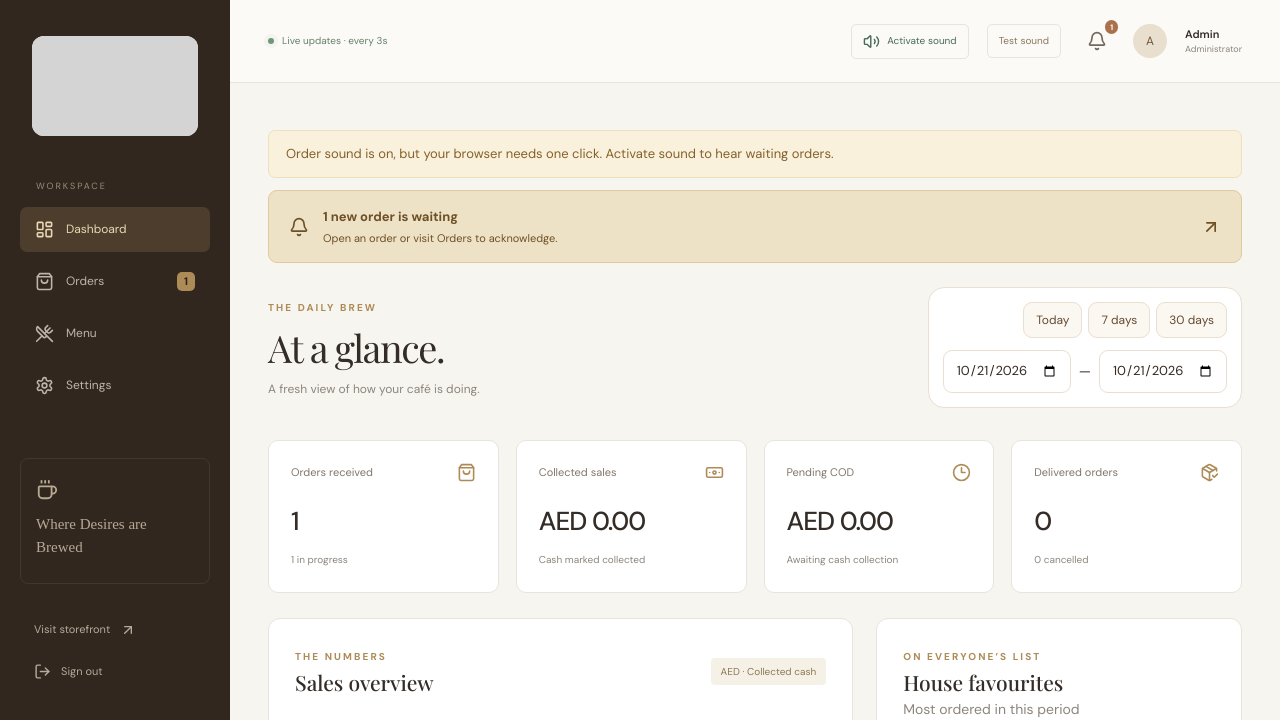
Test: admin live order notifications › keeps sound on and offers activation when the browser blocks autoplay
The image size is (1280, 720).
Expected: the heading "At a glance." is shown, [268,322,444,373]
Expected: the text "1 new order is waiting" is shown, [323,208,458,225]
Step 1. Click the button "Activate sound" → (910, 41), box [851,24,969,58]
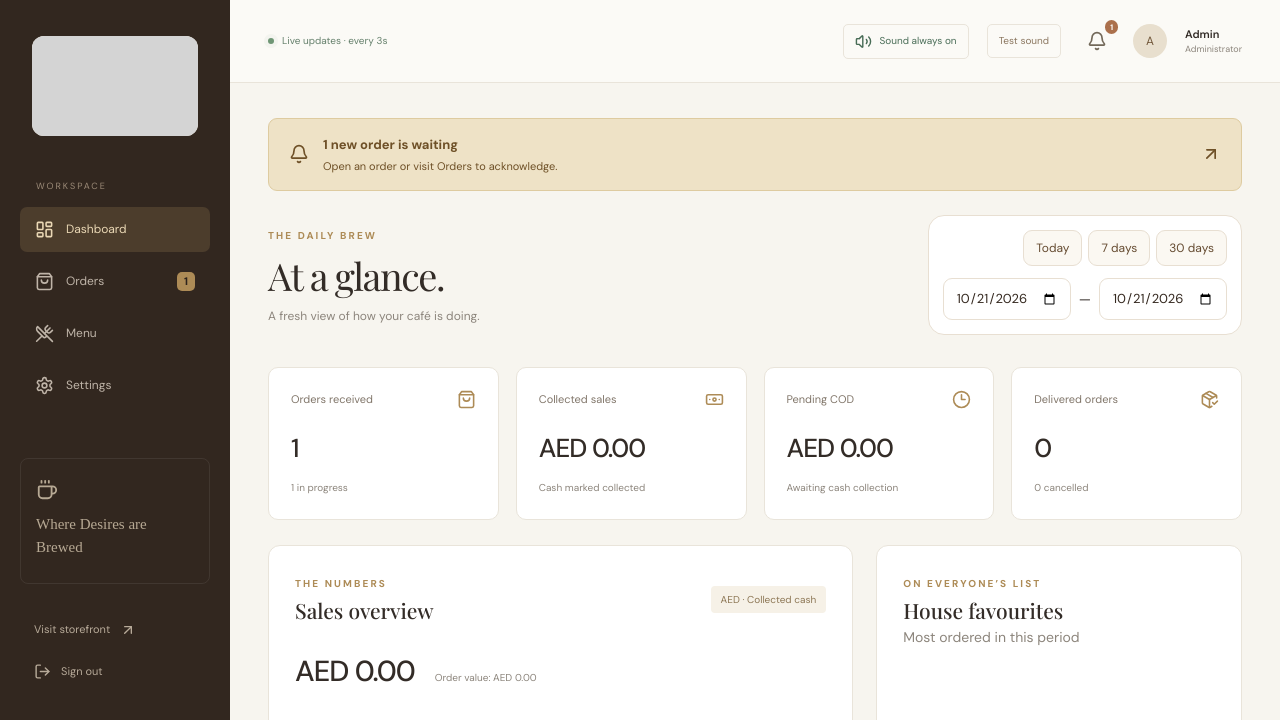
Expected: the button "Sound always on" is shown, [844,24,969,58]
